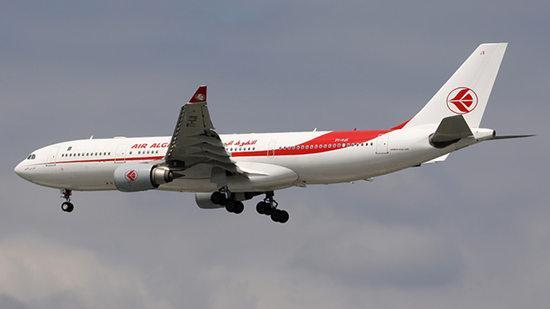airplane: (16, 41, 511, 224)
